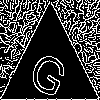G: (25, 41, 75, 100)
